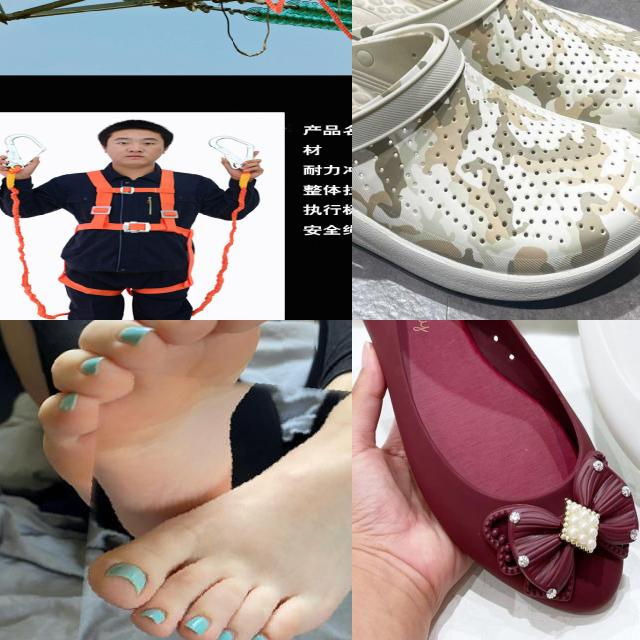Barefoots: (57, 421, 352, 640), (69, 320, 332, 561)
Harness: (63, 164, 220, 305)
Sandals: (352, 0, 640, 314), (352, 320, 640, 629), (525, 320, 640, 546)
